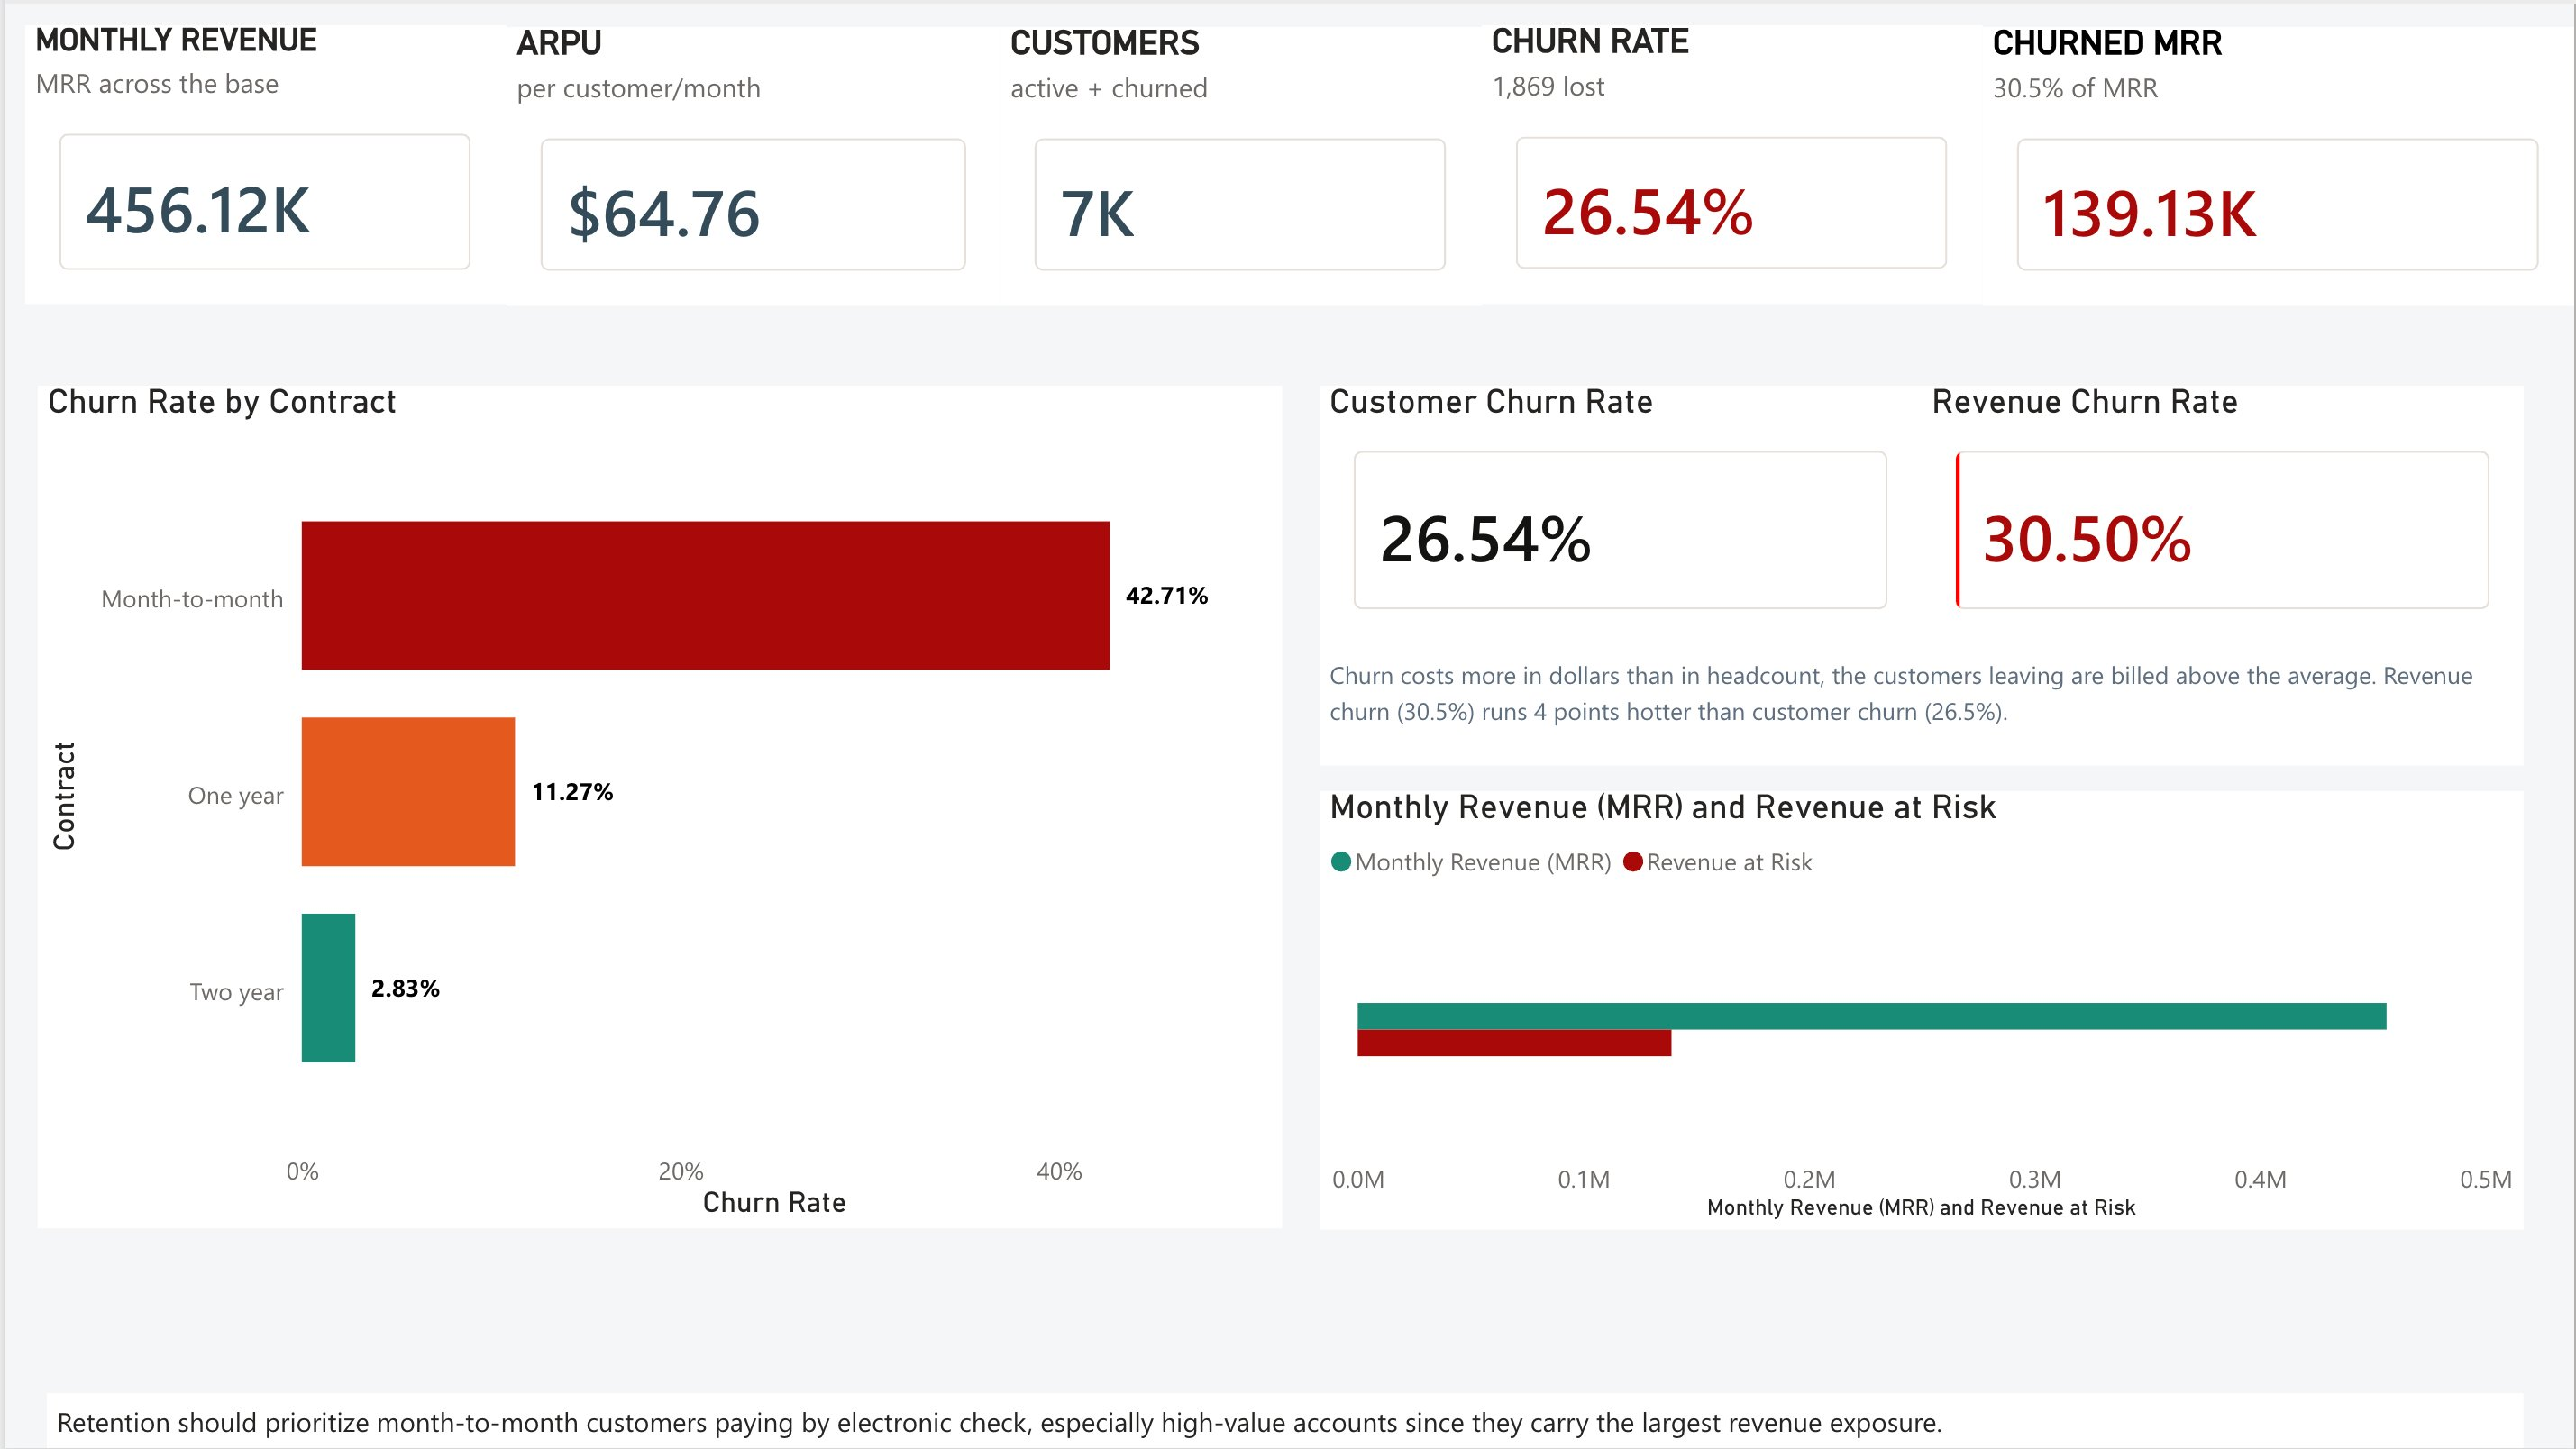

What the dashboard file says about the page in this screenshot:
{"tool":"powerbi","page":{"name":"Page 1","canvas":[1280,720],"ordinal":0},"visuals":[{"type":"cardVisual","title":"MONTHLY REVENUE","fields":{"Data":["telco_churn_cleaned.Monthly Revenue (MRR)"]},"box":[9.9,10.8,239.8,139.2],"z":0},{"type":"cardVisual","title":"ARPU","fields":{"Data":["telco_churn_cleaned.ARPU"]},"box":[249.7,11.7,246.1,139.2],"z":1000},{"type":"cardVisual","title":"CUSTOMERS","fields":{"Data":["telco_churn_cleaned.Total Customers"]},"box":[495.8,11.7,239.8,139.2],"z":2000},{"type":"cardVisual","title":"CHURN RATE","fields":{"Data":["telco_churn_cleaned.Churn Rate"]},"box":[735.7,10.8,249.7,139.2],"z":3000},{"type":"cardVisual","title":"CHURNED MRR","fields":{"Data":["telco_churn_cleaned.Revenue at Risk"]},"box":[985.4,11.7,294.6,139.2],"z":4000},{"type":"clusteredBarChart","fields":{"Category":["telco_churn_cleaned.Contract"],"Y":["telco_churn_cleaned.Churn Rate"]},"box":[16,190,620,420],"z":5000},{"type":"cardVisual","title":"Customer Churn Rate","fields":{"Data":["telco_churn_cleaned.Churn Rate"]},"box":[654.8,190.4,300,129.3],"z":6000},{"type":"cardVisual","title":"Revenue Churn Rate","fields":{"Data":["telco_churn_cleaned.Revenue Churn Rate"]},"box":[954.8,190.4,300,129.3],"z":7000},{"type":"clusteredBarChart","fields":{"Y":["telco_churn_cleaned.Monthly Revenue (MRR)","telco_churn_cleaned.Revenue at Risk"]},"box":[654.8,392.5,600,218.3],"z":8000},{"type":"textbox","box":[20.7,692.5,1259.3,27.8],"z":9000},{"type":"textbox","box":[654.8,319.8,600,60.2],"z":9001}]}

Visuals, with their boxes in screenshot pixels (x1, y1, x2, y2), scaled from the page's 1280x720 canvas onto the 2576x1449 screenshot:
"MONTHLY REVENUE" cardVisual: bbox=[20, 22, 503, 302]
"ARPU" cardVisual: bbox=[503, 23, 998, 304]
"CUSTOMERS" cardVisual: bbox=[998, 23, 1480, 304]
"CHURN RATE" cardVisual: bbox=[1481, 22, 1983, 302]
"CHURNED MRR" cardVisual: bbox=[1983, 23, 2575, 304]
clusteredBarChart - telco_churn_cleaned.Contract x telco_churn_cleaned.Churn Rate: bbox=[32, 382, 1280, 1227]
"Customer Churn Rate" cardVisual: bbox=[1318, 383, 1922, 643]
"Revenue Churn Rate" cardVisual: bbox=[1922, 383, 2526, 643]
clusteredBarChart - telco_churn_cleaned.Monthly Revenue (MRR) x telco_churn_cleaned.Revenue at Risk: bbox=[1318, 790, 2526, 1229]
textbox: bbox=[41, 1394, 2575, 1448]
textbox: bbox=[1318, 643, 2526, 765]
